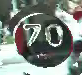Speed limit: (9, 8, 75, 68)
